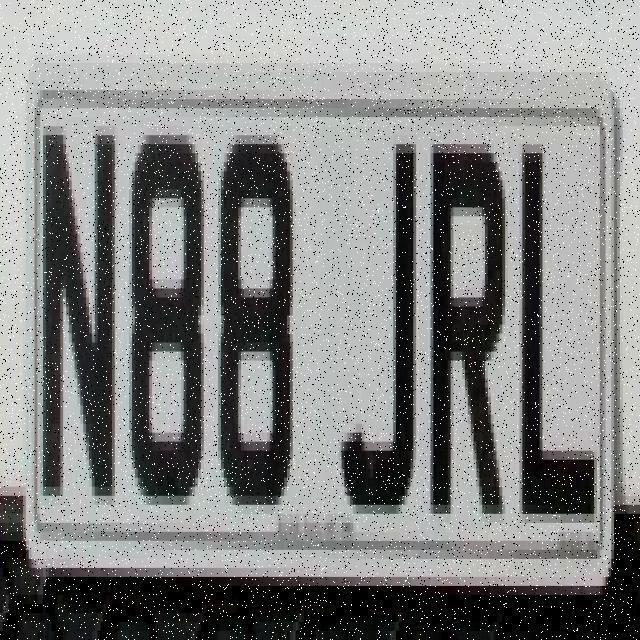License Plate: (14, 9, 618, 597)
